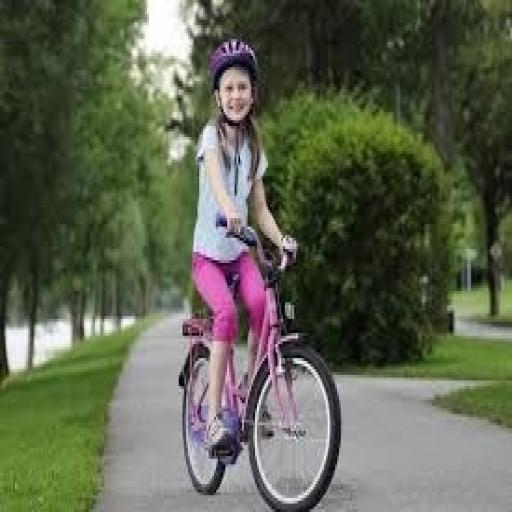cycling: (188, 36, 300, 456)
